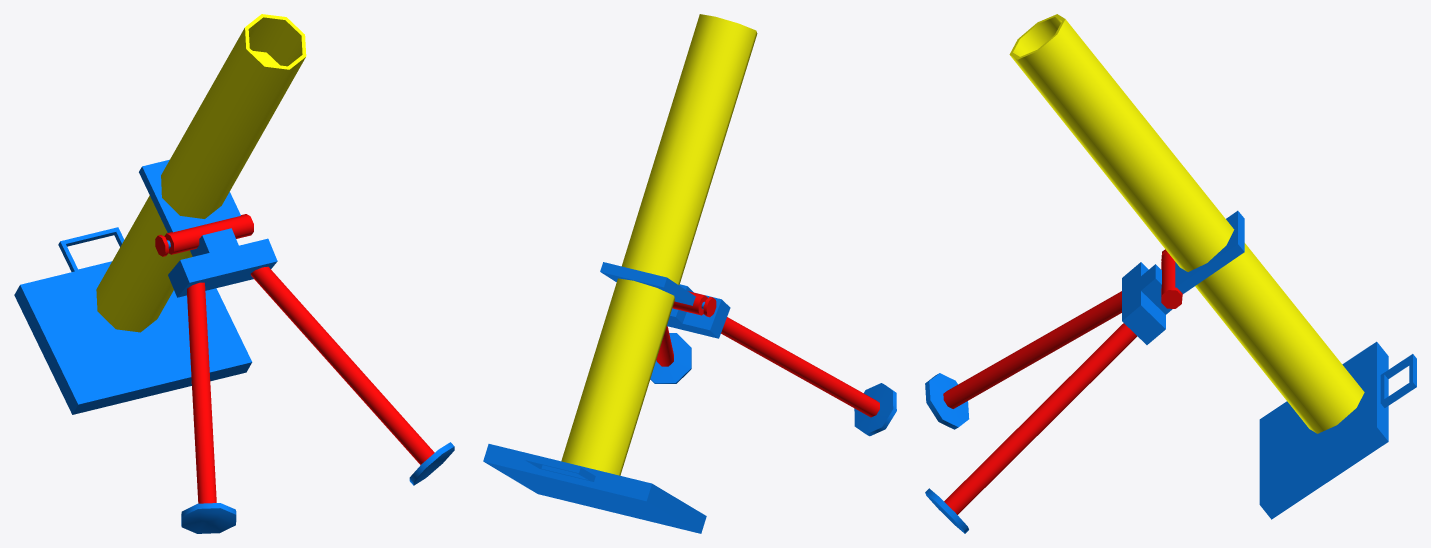
File: Mortier_lvl1.fbx
3 renders of one model, left to right at view 1: azimuth 30°, elevation 25°; view 2: azimuth 150°, elevation 25°; view 3: azimuth 270°, elevation 25°, orthographic. The views are drawn at different scales.
Visible parts, largest first — view 1: Mortier_V1; view 2: Mortier_V1; view 3: Mortier_V1.
Boxes of the visible parts, bbox=[...] form: Mortier_V1: bbox=[14, 14, 454, 533]; Mortier_V1: bbox=[483, 14, 896, 533]; Mortier_V1: bbox=[925, 14, 1416, 533].
Size of the model in its own units: 64.37 by 103 by 99.75.
